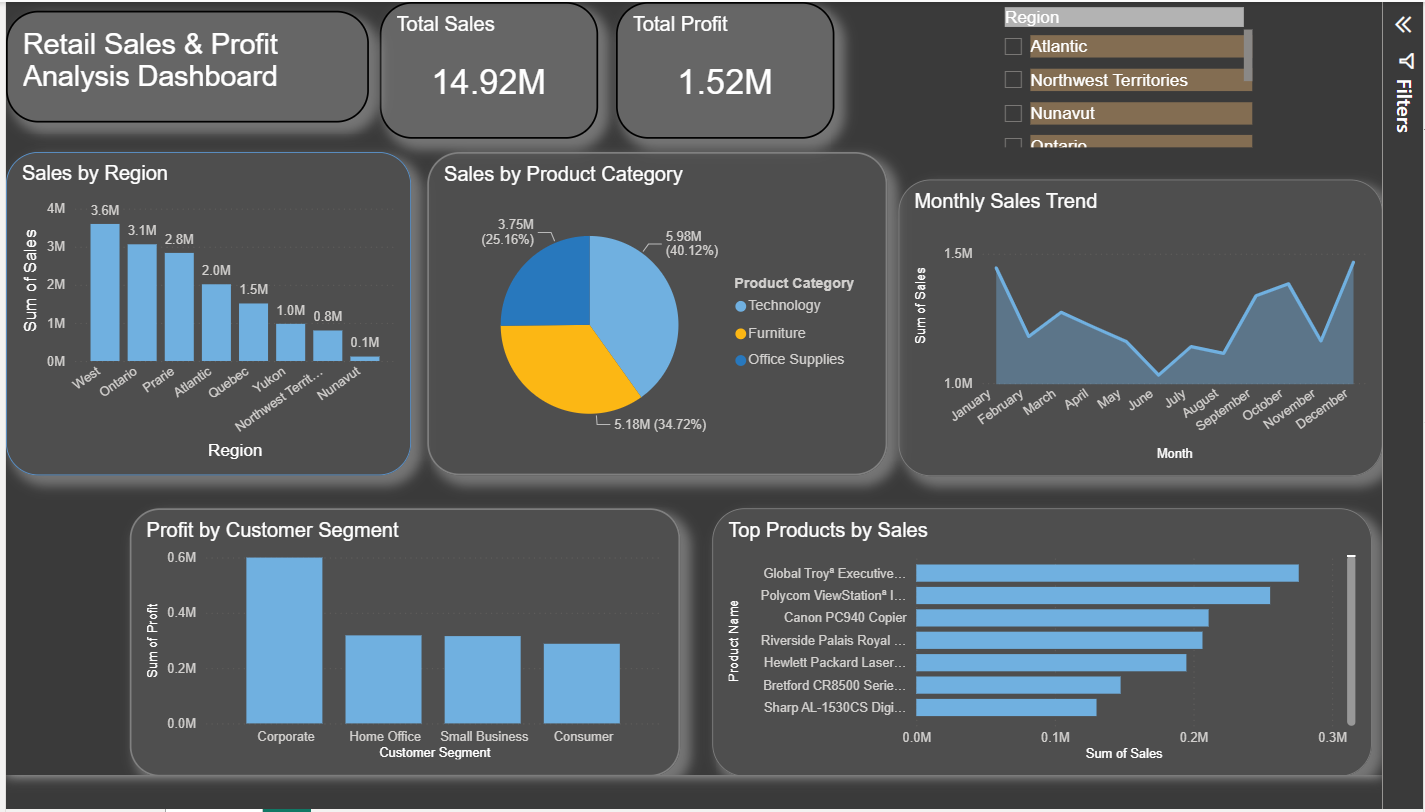

What the dashboard file says about the page in this screenshot:
{"tool":"powerbi","page":{"name":"Page 2","canvas":[1280,720],"ordinal":1},"visuals":[{"type":"card","title":"Total Sales","fields":{"Values":["Sum(Table 1 (Sheet1).Sales)"]},"box":[347.3,0,203,127.2],"z":0},{"type":"card","title":"Total Profit","fields":{"Values":["Sum(Table 1 (Sheet1).Profit)"]},"box":[567.4,0,203,127.2],"z":1000},{"type":"clusteredColumnChart","title":"Sales by Region","fields":{"Category":["Table 1 (Sheet1).Region"],"Y":["Sum(Table 1 (Sheet1).Sales)"]},"box":[0,139.4,376.6,300.8],"z":2000},{"type":"pieChart","title":" Sales by Product Category","fields":{"Category":["Table 1 (Sheet1).Product Category"],"Y":["Sum(Table 1 (Sheet1).Sales)"]},"box":[391.3,139.4,428,300.8],"z":3000},{"type":"areaChart","title":" Monthly Sales Trend","fields":{"Category":["Table 1 (Sheet1).Order Date.Variation.Date Hierarchy.Month"],"Y":["Sum(Table 1 (Sheet1).Sales)"]},"box":[830.2,164.7,450.1,275.8],"z":4000},{"type":"clusteredBarChart","title":"Top Products by Sales","fields":{"Category":["Table 1 (Sheet1).Product Name"],"Y":["Sum(Table 1 (Sheet1).Sales)"]},"box":[657.3,470.7,613.4,249.7],"z":5000},{"type":"clusteredColumnChart","title":"Profit by Customer Segment","fields":{"Category":["Table 1 (Sheet1).Customer Segment"],"Y":["Sum(Table 1 (Sheet1).Profit)"]},"box":[115.3,470.7,511.8,249.7],"z":6000},{"type":"textbox","box":[0,8.4,337.8,103.8],"z":7000},{"type":"slicer","fields":{"Values":["Table 1 (Sheet1).Region"]},"box":[916.6,0,248.4,140],"z":7001}]}

Visuals, with their boxes on the page's 1280x720 design canvas (x1, y1, x2, y2). These are canvas units, not pixel positions in the 1425x812 screenshot, which may show the page scaled, cropped or inside an application window:
"Total Sales" card: l=347, t=0, r=550, b=127
"Total Profit" card: l=567, t=0, r=770, b=127
"Sales by Region" clusteredColumnChart: l=0, t=139, r=377, b=440
" Sales by Product Category" pieChart: l=391, t=139, r=819, b=440
" Monthly Sales Trend" areaChart: l=830, t=165, r=1280, b=440
"Top Products by Sales" clusteredBarChart: l=657, t=471, r=1271, b=720
"Profit by Customer Segment" clusteredColumnChart: l=115, t=471, r=627, b=720
textbox: l=0, t=8, r=338, b=112
slicer - Table 1 (Sheet1).Region: l=917, t=0, r=1165, b=140
